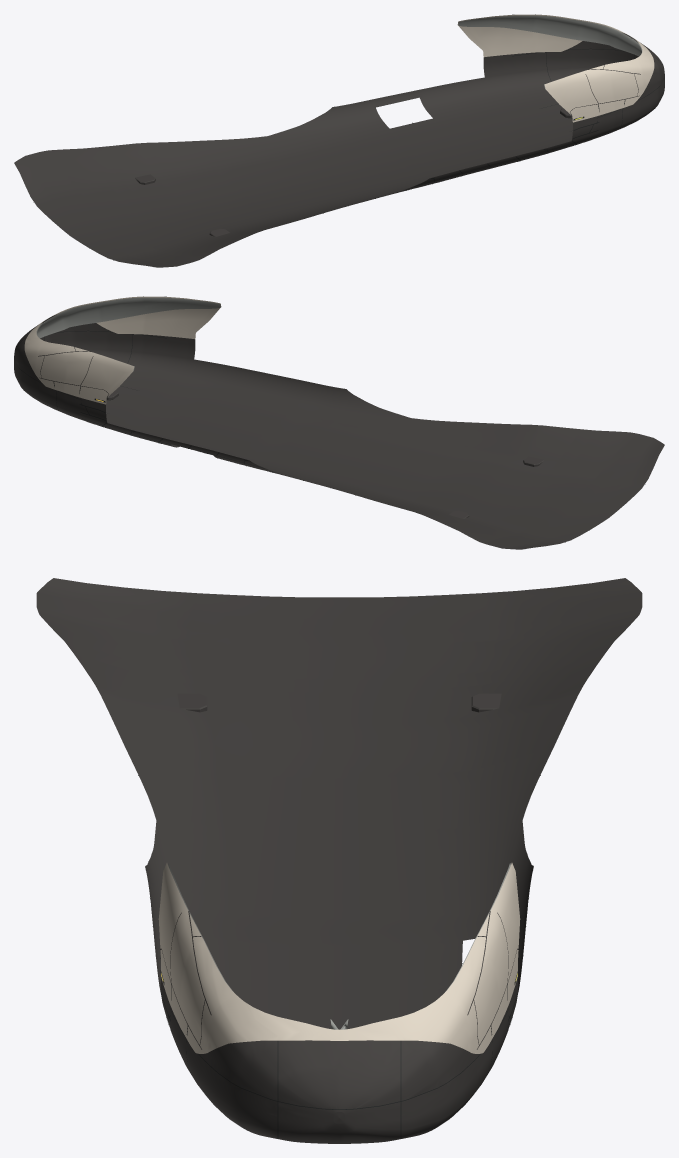
The model's file is SM_SSTO_CinematicLowHull.fbx.
3 views of the same model, one above another, from view 1: azimuth 30°, elevation 25°; view 2: azimuth 150°, elevation 25°; view 3: azimuth 270°, elevation 25° (orthographic). The views are drawn at different scales.
Parts seen in each view (by area): view 1: SM_SSTO_CinematicLowHull; view 2: SM_SSTO_CinematicLowHull; view 3: SM_SSTO_CinematicLowHull.
Part boxes in pixels (x1,y1,x2,y2): SM_SSTO_CinematicLowHull: [14, 14, 664, 267]; SM_SSTO_CinematicLowHull: [14, 296, 664, 549]; SM_SSTO_CinematicLowHull: [36, 578, 642, 1143].
Bounding box in the file's own units: 23.87 × 10.65 × 3.2.
